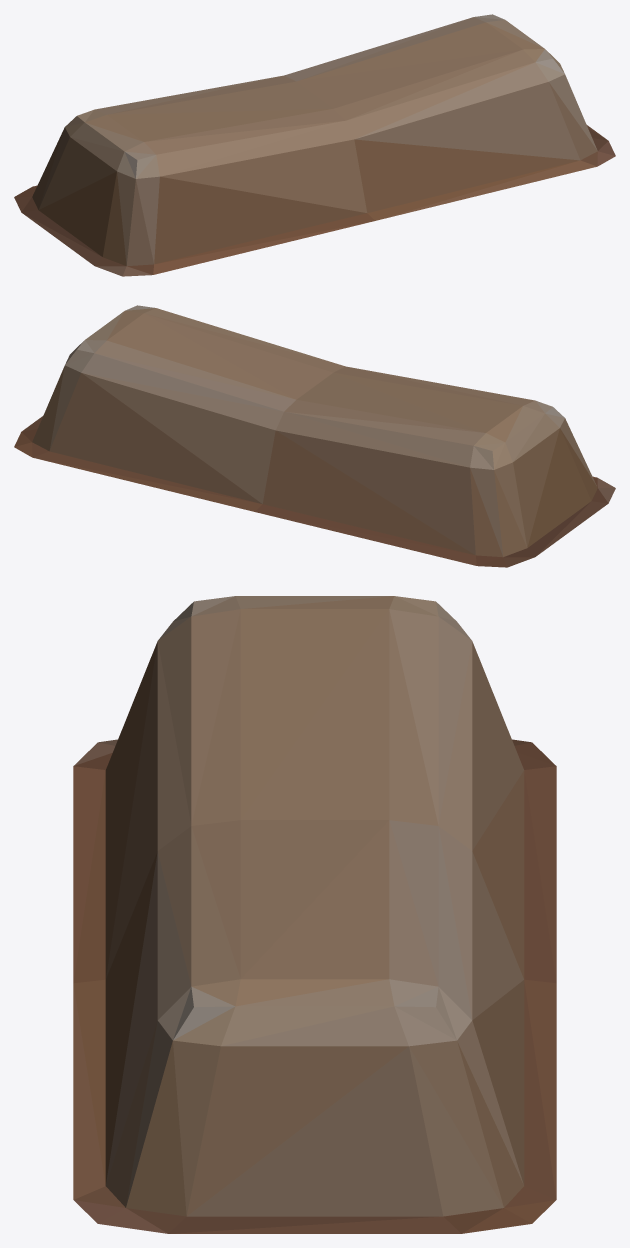
File: prop_treasure_ingot_copper.fbx
3 renders of one model, top to bottom at view 1: azimuth 30°, elevation 25°; view 2: azimuth 150°, elevation 25°; view 3: azimuth 270°, elevation 25°, orthographic. The views are drawn at different scales.
Parts seen in each view (by area): view 1: prop_treasure_ingot_copper; view 2: prop_treasure_ingot_copper; view 3: prop_treasure_ingot_copper.
Boxes of the visible parts, box(x1,y1,x2,y2) form: prop_treasure_ingot_copper: box(14, 14, 615, 276); prop_treasure_ingot_copper: box(14, 305, 615, 567); prop_treasure_ingot_copper: box(73, 596, 556, 1233).
Bounding box in the file's own units: 0.733 × 0.1289 × 0.2983.
